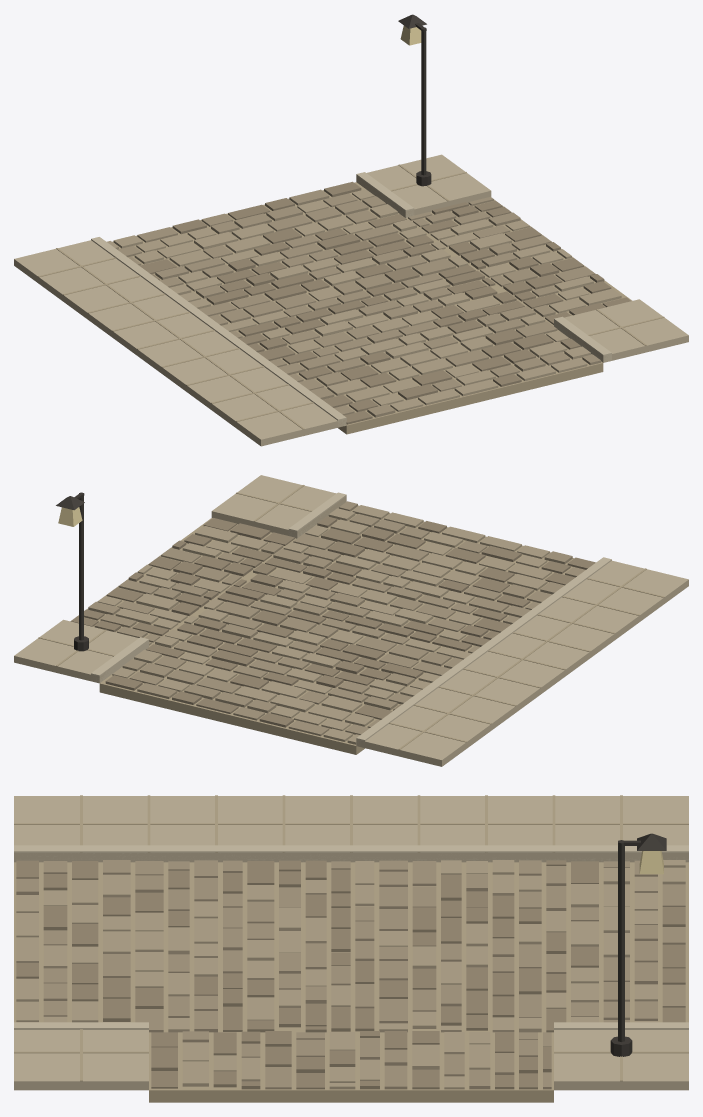
The model's file is yol-t.glb.
3 renders of one model, top to bottom at view 1: azimuth 30°, elevation 25°; view 2: azimuth 150°, elevation 25°; view 3: azimuth 270°, elevation 25°, orthographic. The views are drawn at different scales.
Parts seen in each view (by area): view 1: kaldirim, yol2, yol, yol3, harc, bordur, demir; view 2: kaldirim, yol2, yol3, yol, harc, bordur, demir; view 3: kaldirim, yol3, yol2, yol, harc, bordur, demir, fener.
Boxes of the visible parts, bbox=[...] form: kaldirim: bbox=[14, 154, 688, 446]; yol2: bbox=[107, 189, 621, 411]; yol: bbox=[117, 189, 600, 417]; yol3: bbox=[139, 181, 631, 424]; harc: bbox=[38, 164, 664, 434]; bordur: bbox=[91, 172, 611, 426]; demir: bbox=[398, 14, 431, 186]; kaldirim: bbox=[14, 475, 688, 766]; yol2: bbox=[97, 505, 551, 744]; yol3: bbox=[70, 516, 595, 727]; yol: bbox=[88, 501, 585, 736]; harc: bbox=[38, 485, 664, 754]; bordur: bbox=[91, 492, 611, 747]; demir: bbox=[56, 492, 88, 651]; kaldirim: bbox=[14, 796, 688, 1090]; yol3: bbox=[16, 860, 685, 1089]; yol2: bbox=[16, 860, 685, 1089]; yol: bbox=[16, 860, 685, 1089]; harc: bbox=[14, 795, 688, 1102]; bordur: bbox=[14, 845, 688, 1029]; demir: bbox=[610, 833, 666, 1056]; fener: bbox=[639, 851, 663, 874].
Bounding box in the file's own units: 10 × 3.92 × 10.
